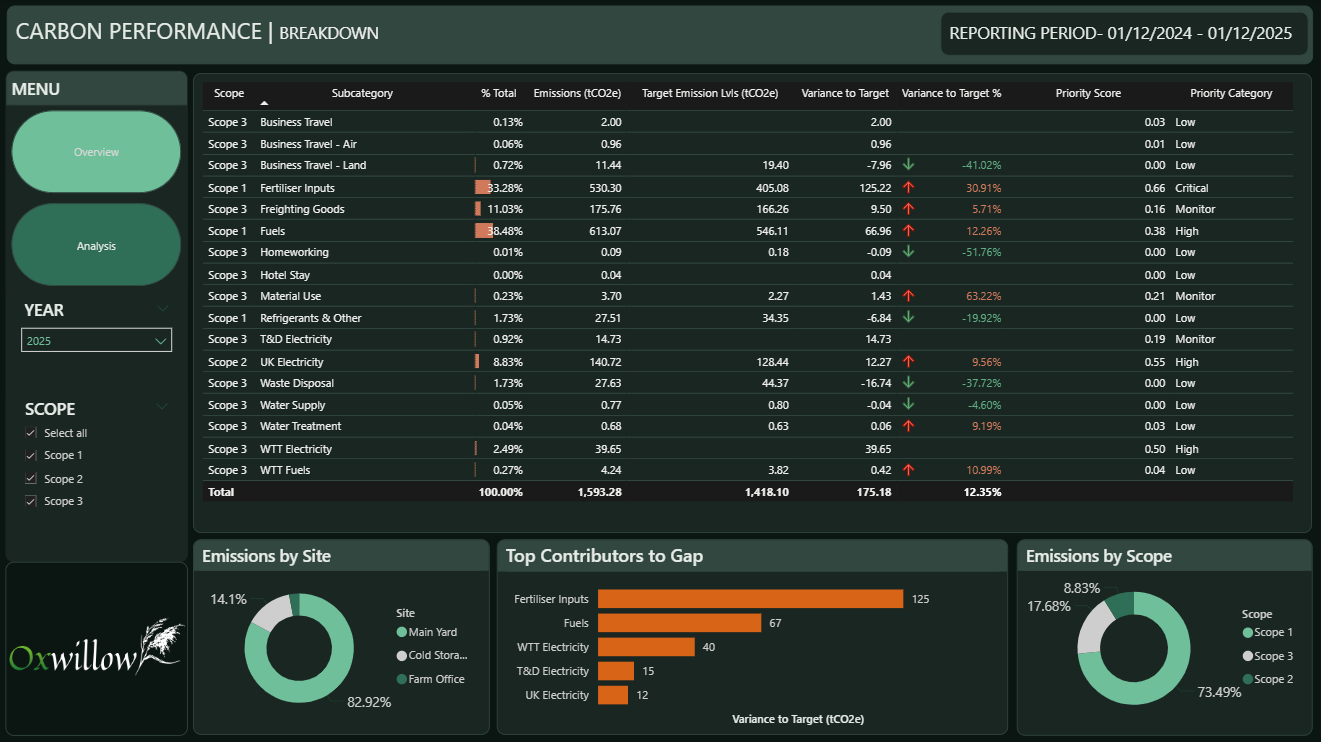

The dashboard page shown, as its layout file describes it:
{"tool":"powerbi","page":{"name":"Analysis","canvas":[1280,720],"ordinal":1},"visuals":[{"type":"textbox","box":[7.9,7.1,1260.7,57.1],"z":0},{"type":"slicer","title":"SCOPE","fields":{"Values":["4yrs of C.Scope"]},"box":[7.7,379.1,176.2,165.5],"z":0,"group":"g1"},{"type":"pageNavigator","title":"MENU","box":[7.7,70,176,219.7],"z":1000,"group":"g1"},{"type":"tableEx","fields":{"Values":["4yrs of C.Scope","4yrs of C.Subcategory","4yrs of C.% of Total Emissions (Selected Year)","4yrs of C.Total tCO2e (Selected Year)","4yrs of C.Target tCO2e","4yrs of C.Variance to Target","4yrs of C.Variance to Target %","4yrs of C.Priority Score","4yrs of C.Priority Category"]},"box":[188.6,72.1,1080,444.3],"z":1000},{"type":"slicer","title":"YEAR","fields":{"Values":["4yrs of C.Year"]},"box":[7.8,284.9,176,100.5],"z":2000,"group":"g1"},{"type":"barChart","title":"Top Contributors to Gap ","fields":{"Category":["4yrs of C.Subcategory"],"Y":["4yrs of C.Variance to Target"]},"box":[480.9,522.7,493.6,189.1],"z":2000},{"type":"donutChart","title":"Emissions by Scope","fields":{"Category":["4yrs of C.Scope"],"Y":["4yrs of C.Total tCO2e (Selected Year)"]},"box":[982.9,522.9,285.7,189.3],"z":3000},{"type":"donutChart","title":"Emissions by Site","fields":{"Category":["4yrs of C.Site"],"Y":["4yrs of C.Total tCO2e (Selected Year)"]},"box":[188.2,522.7,286.4,189.1],"z":4000},{"type":"textbox","box":[910,13.1,355.4,42.3],"z":5000},{"type":"group","id":"g1","title":"Menu","box":[7.7,70,176.2,474.6],"z":6000},{"type":"image","box":[7.2,544.1,176.1,167.7],"z":7000}]}

Visuals, with their boxes in screenshot pixels (x1, y1, x2, y2), scaled from the page's 1280x720 canvas onto the 1321x742 screenshot:
textbox: (8,7,1309,66)
"SCOPE" slicer: (8,391,190,561)
"MENU" pageNavigator: (8,72,190,299)
tableEx - 4yrs of C.Scope x 4yrs of C.Subcategory: (195,74,1309,532)
"YEAR" slicer: (8,294,190,397)
"Top Contributors to Gap " barChart: (496,539,1006,734)
"Emissions by Scope" donutChart: (1014,539,1309,734)
"Emissions by Site" donutChart: (194,539,490,734)
textbox: (939,14,1306,57)
"Menu" group: (8,72,190,561)
image: (7,561,189,734)
